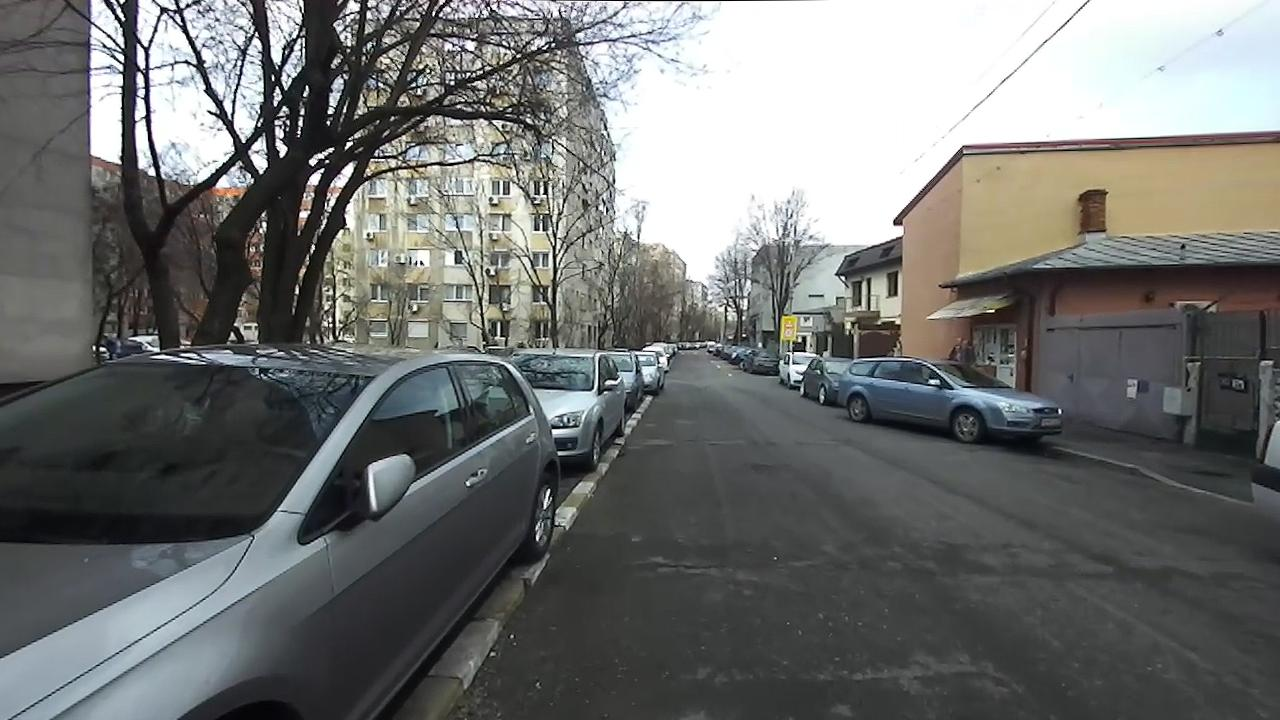pothole: (653, 554, 729, 577)
